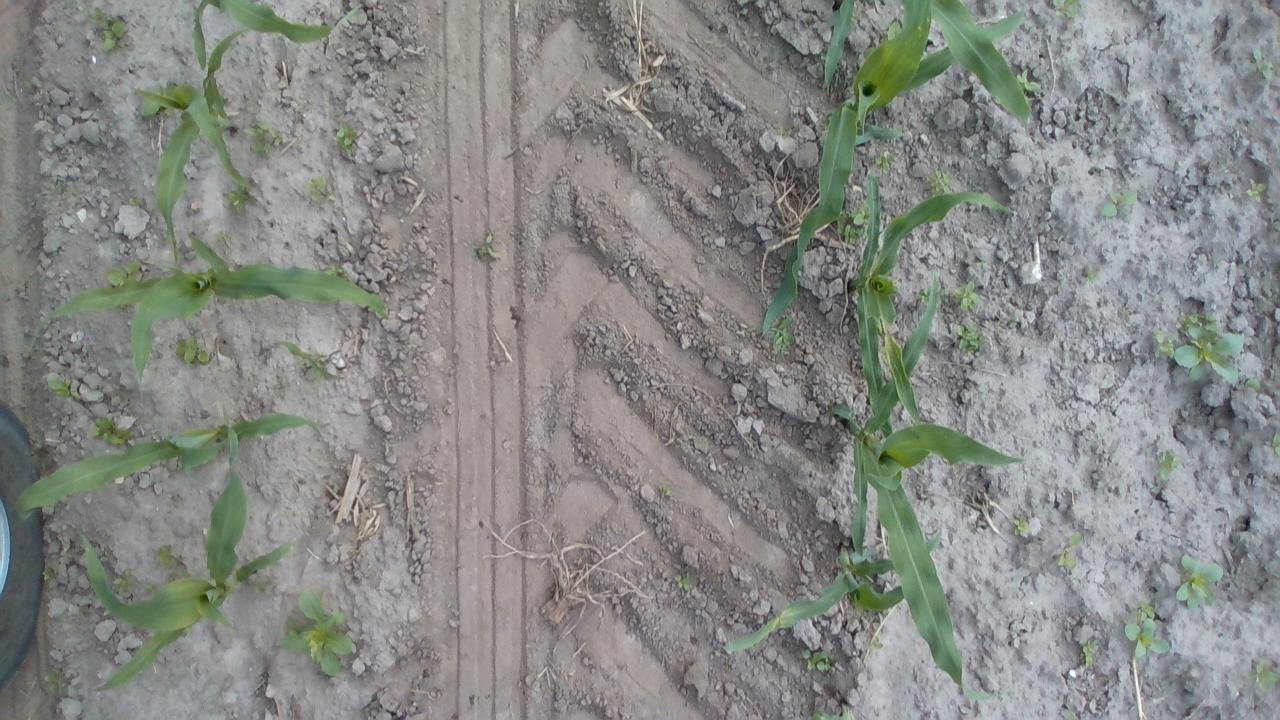Maize: (705, 322, 1025, 716), (759, 1, 1077, 349), (83, 404, 304, 708), (131, 4, 368, 266), (23, 232, 390, 394), (857, 162, 1013, 468), (16, 408, 326, 522)
Weeds: (283, 582, 367, 678), (1150, 308, 1246, 390), (1120, 594, 1180, 662), (1172, 552, 1227, 614), (270, 340, 349, 380), (84, 10, 136, 52), (240, 123, 300, 159), (768, 317, 809, 365), (471, 226, 508, 278), (1055, 528, 1090, 580), (1098, 182, 1144, 220), (88, 414, 134, 452), (176, 334, 220, 372), (1245, 42, 1277, 94), (96, 250, 142, 286), (838, 200, 868, 255), (306, 170, 343, 207), (1248, 654, 1280, 696), (37, 669, 79, 701), (663, 568, 705, 599), (1150, 439, 1182, 479), (42, 369, 76, 406), (1074, 630, 1107, 666), (955, 281, 986, 319), (1244, 172, 1272, 214), (156, 540, 188, 576), (868, 146, 898, 184), (955, 324, 984, 360), (1010, 507, 1036, 546), (802, 646, 834, 677), (1016, 68, 1044, 99), (114, 562, 140, 594), (330, 126, 358, 154), (1054, 0, 1084, 26), (933, 169, 957, 198), (222, 190, 252, 213), (1262, 428, 1280, 464), (867, 628, 888, 655)
